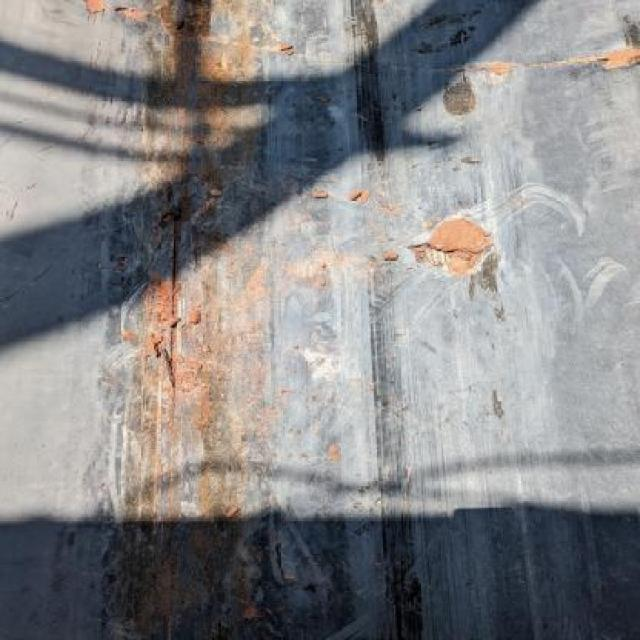Wear: (76, 0, 284, 640)
